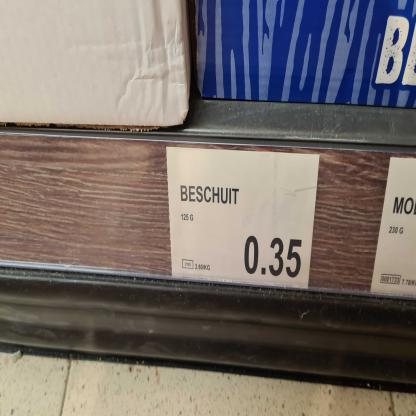prtg: (167, 147, 321, 289), (371, 158, 415, 295)
